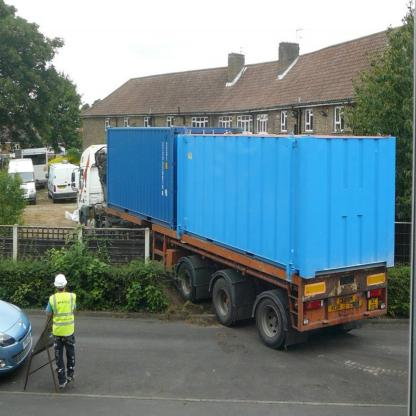Car: (0, 299, 33, 374)
Truck: (71, 125, 396, 351), (15, 148, 49, 189)
